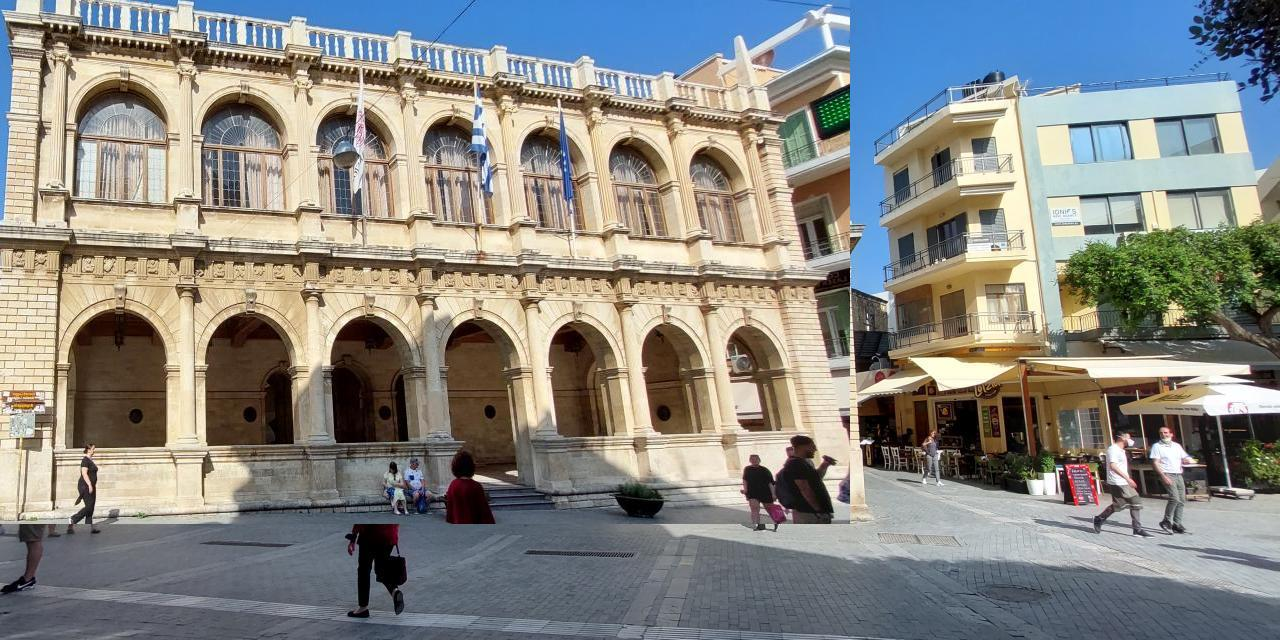Loggia: (1, 1, 851, 525)
